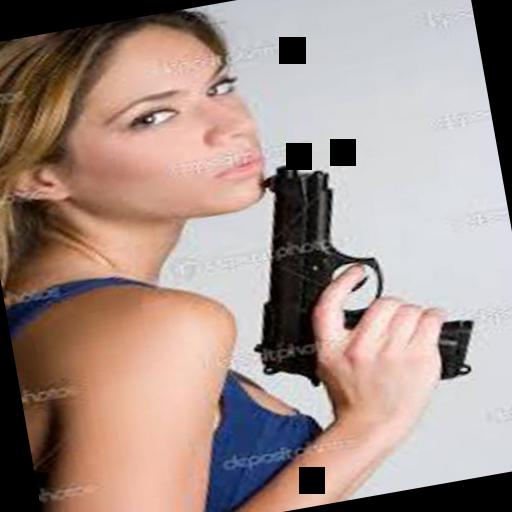Handgun: (226, 133, 476, 416)
